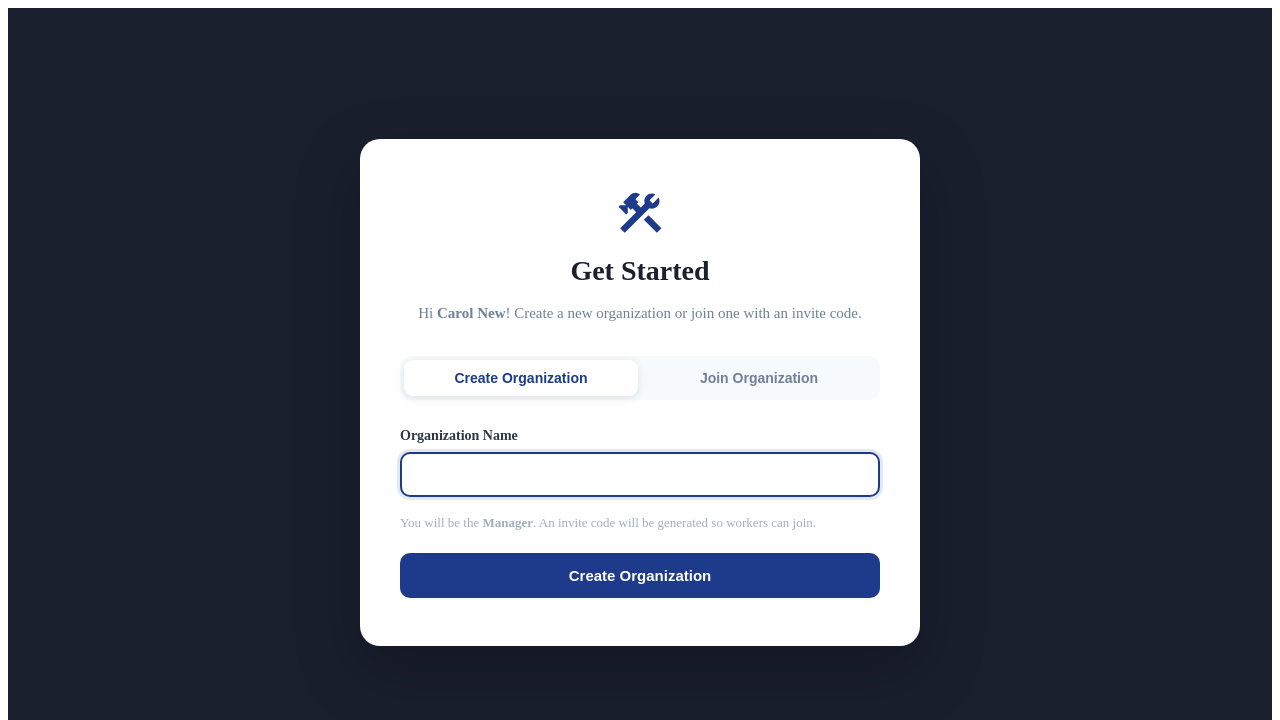
ConstructFlow End-to-End Workflow › 4. Worker sees an error when they enter an invalid invite code
Switch to "Join Organization" tab
Click the button "Join Organization".
click(759, 378)  # box [642,360,876,396]
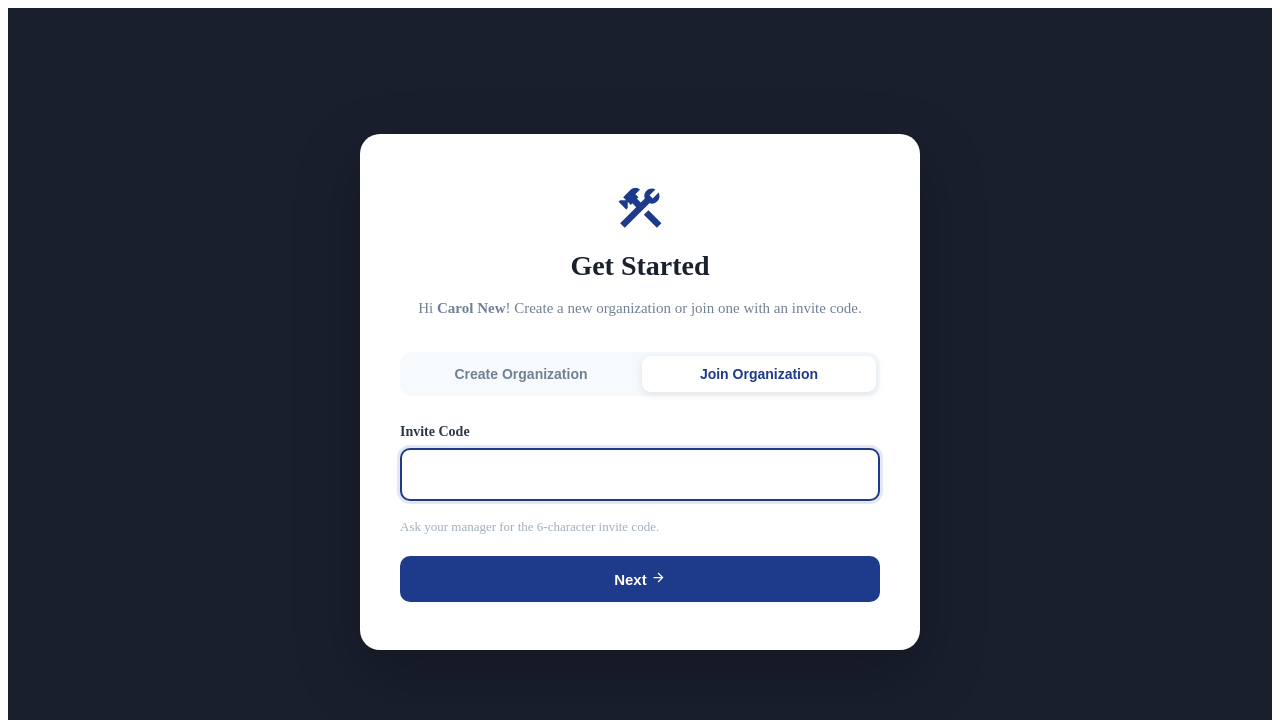
Type "BADCODE" into the field.
click(640, 474); type("BADCODE")  # box [400,448,880,500]
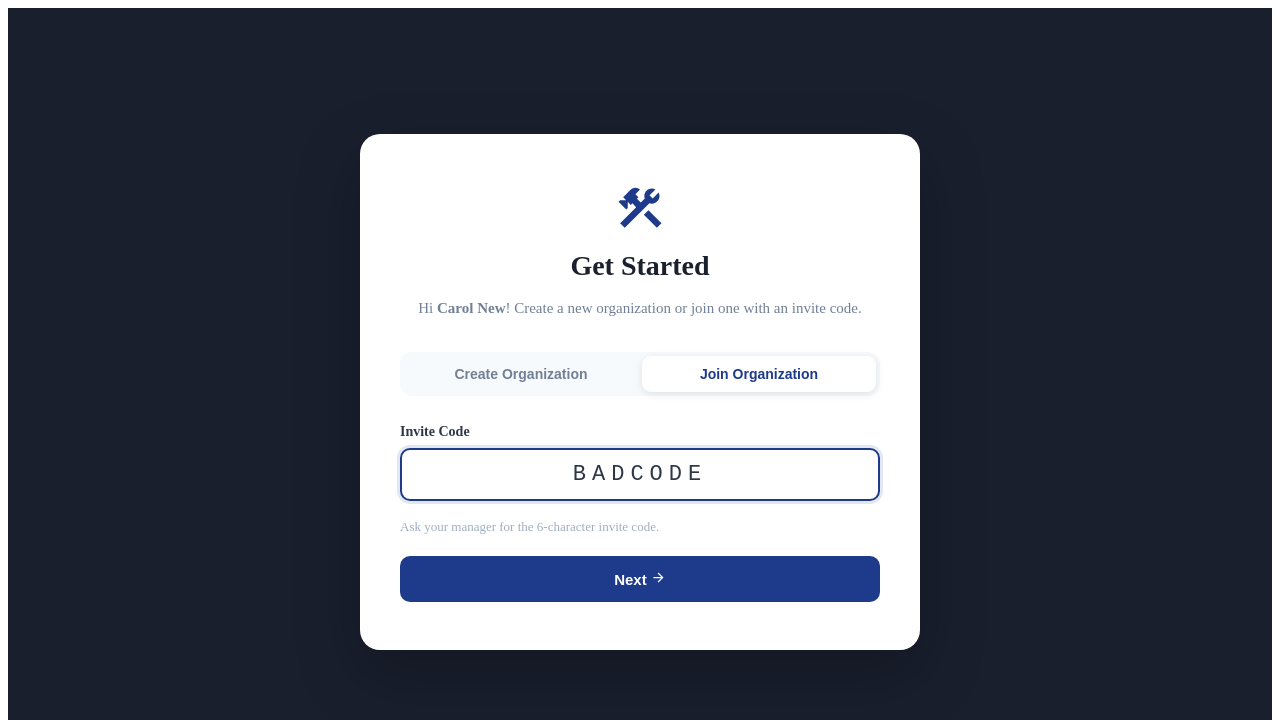
Click the button "Next".
click(640, 579)  # box [400,556,880,602]
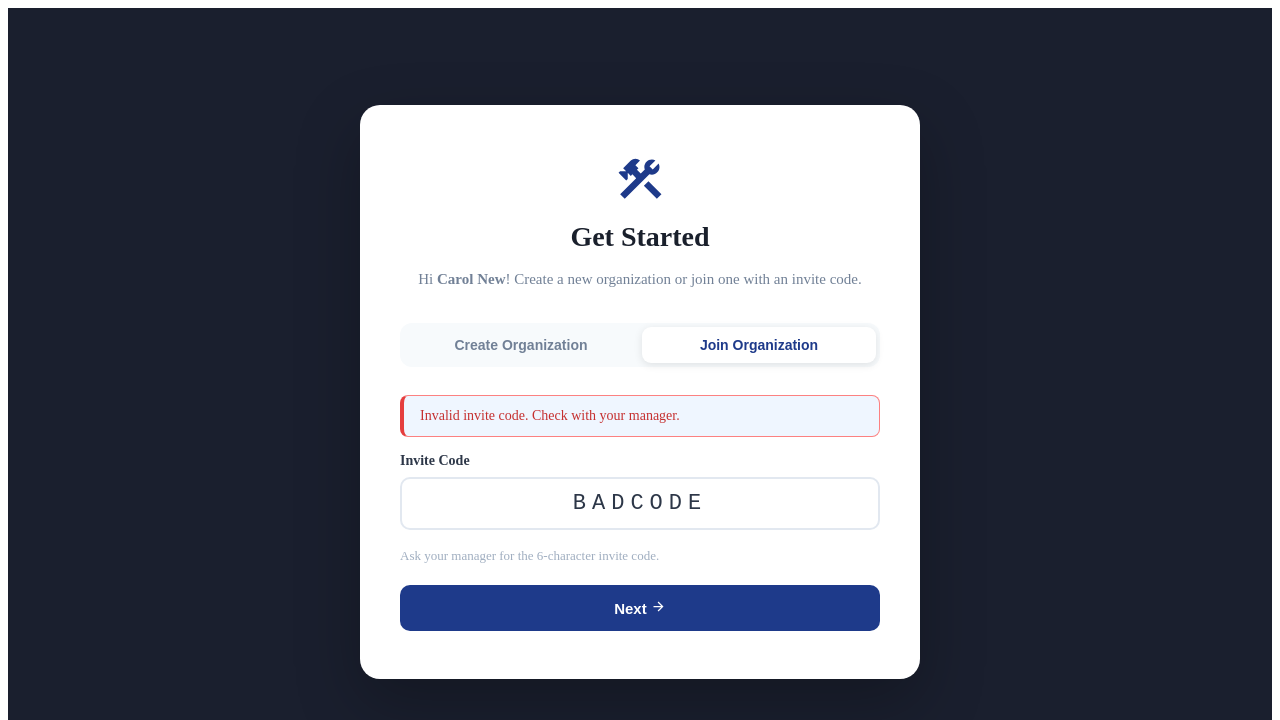
expect the text "Invalid invite code. Check with your manager." is shown: met, box [400,394,880,436]
